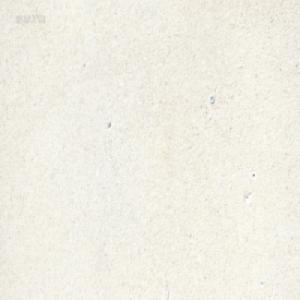Washer: (209, 93, 214, 104)
